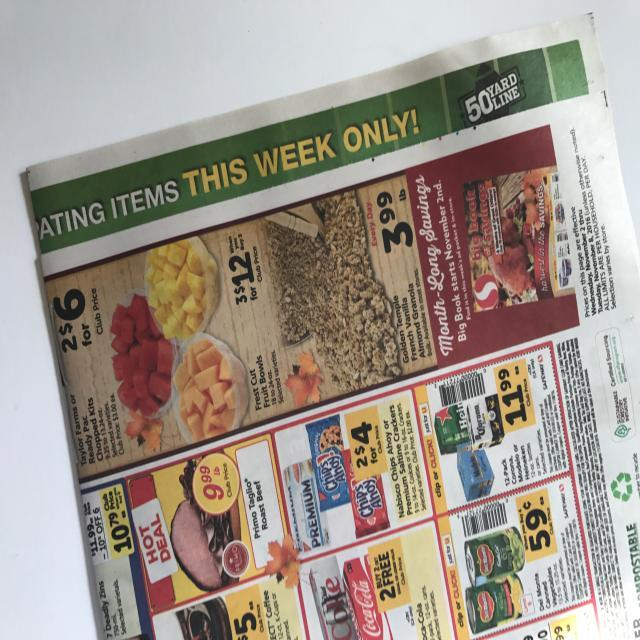paper: (20, 12, 639, 640)
